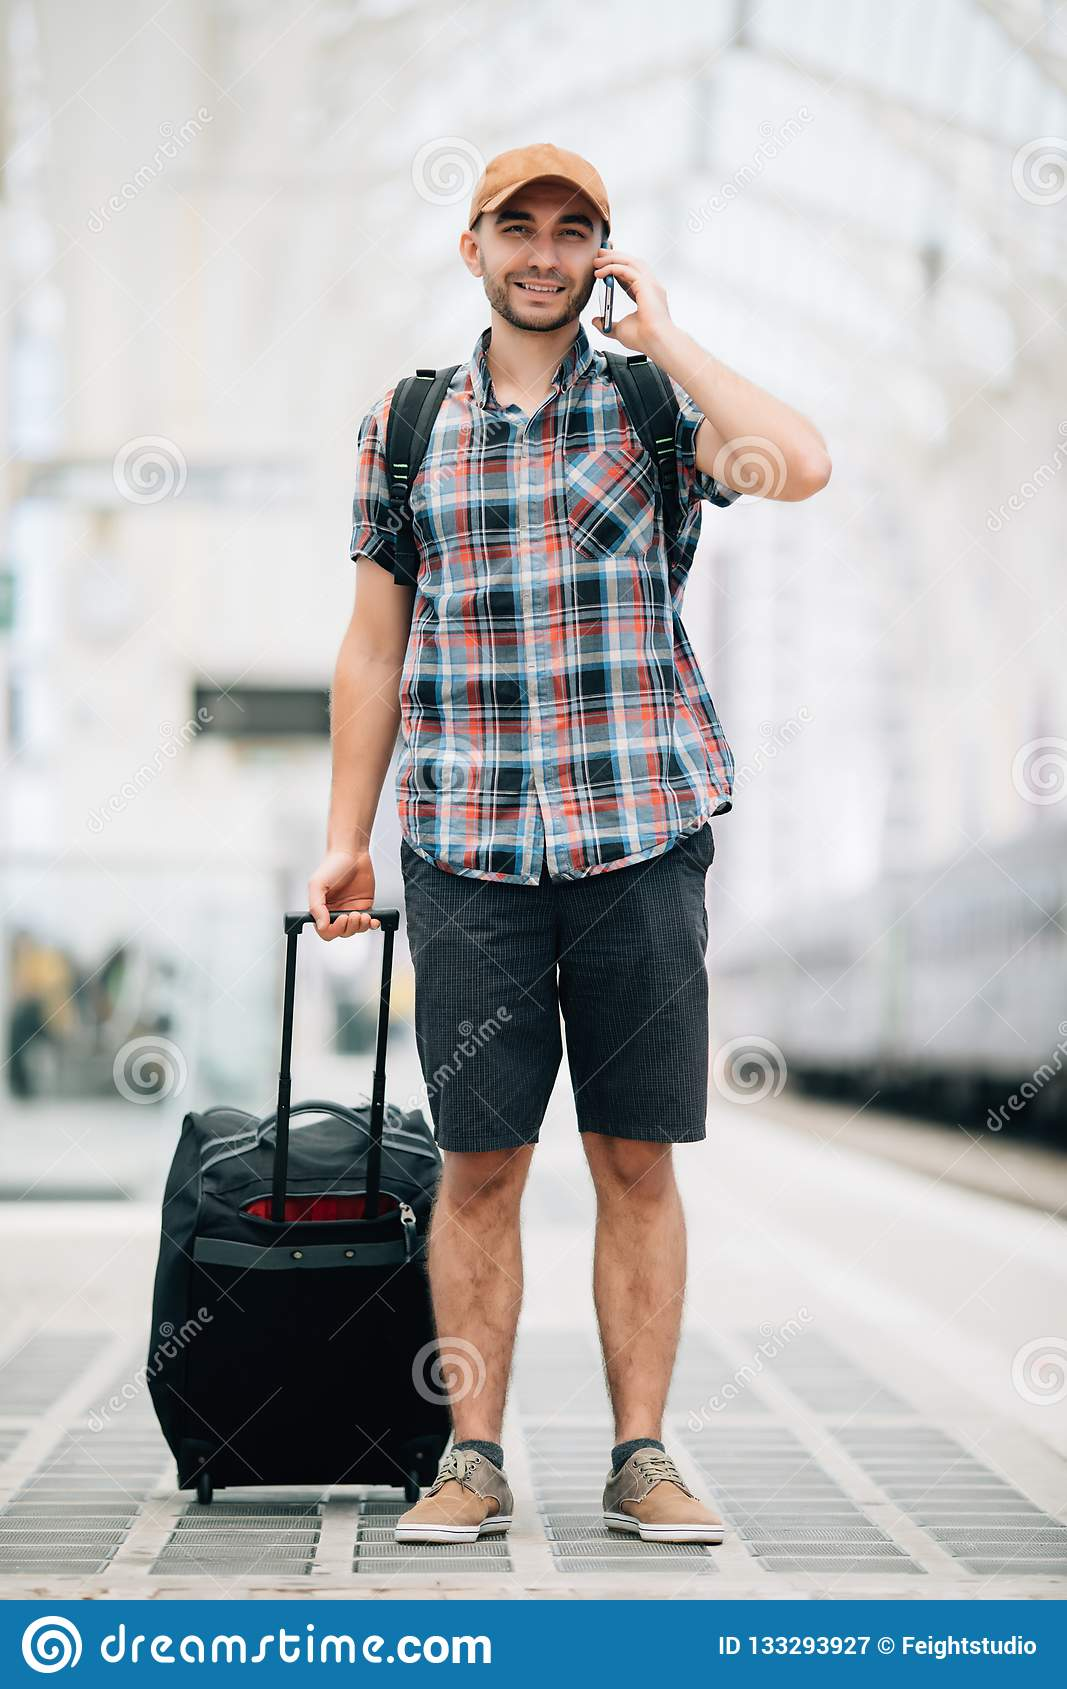phone: (596, 241, 618, 334)
talk: (495, 205, 676, 355)
